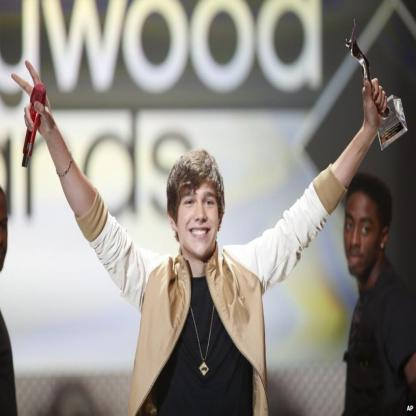face: (179, 174, 220, 258), (346, 192, 381, 277)
